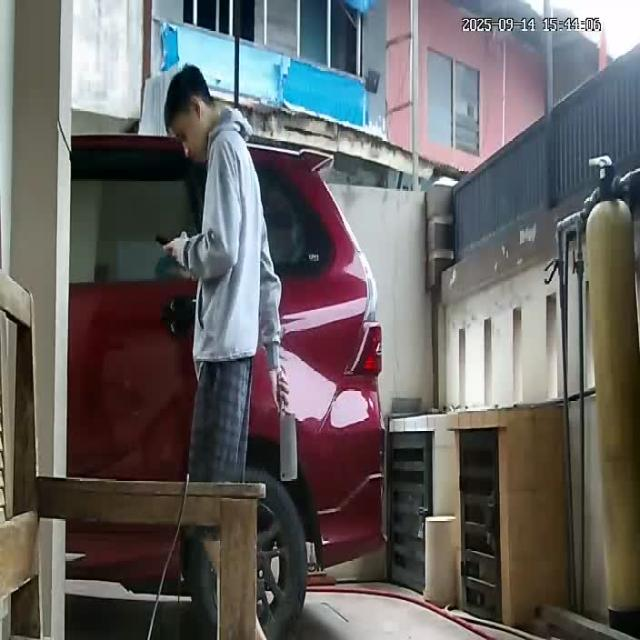senjata_tajam: (278, 409, 298, 483)
